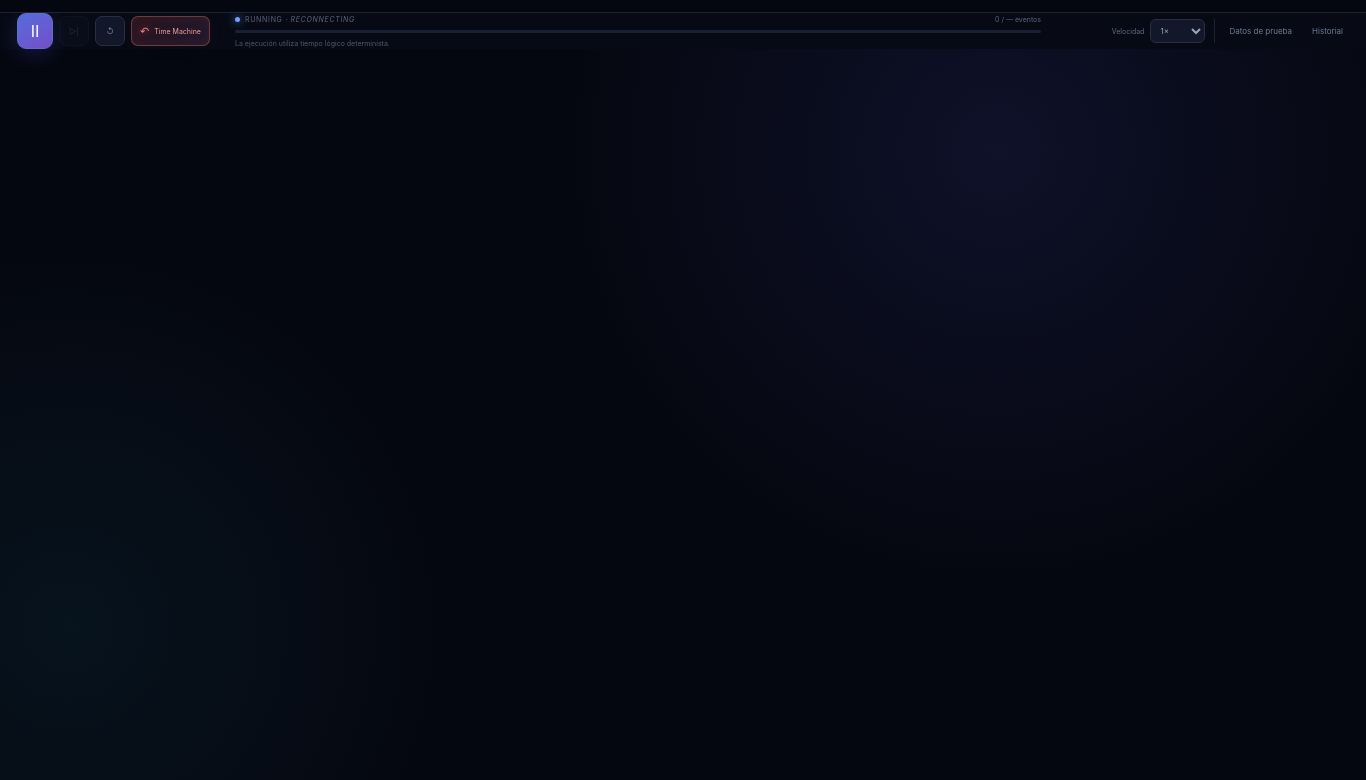
Test: RunControls › conserva el estado remoto y muestra el error si pausar falla
Click the button named "Pausar": (35, 31) [17,13,53,49]
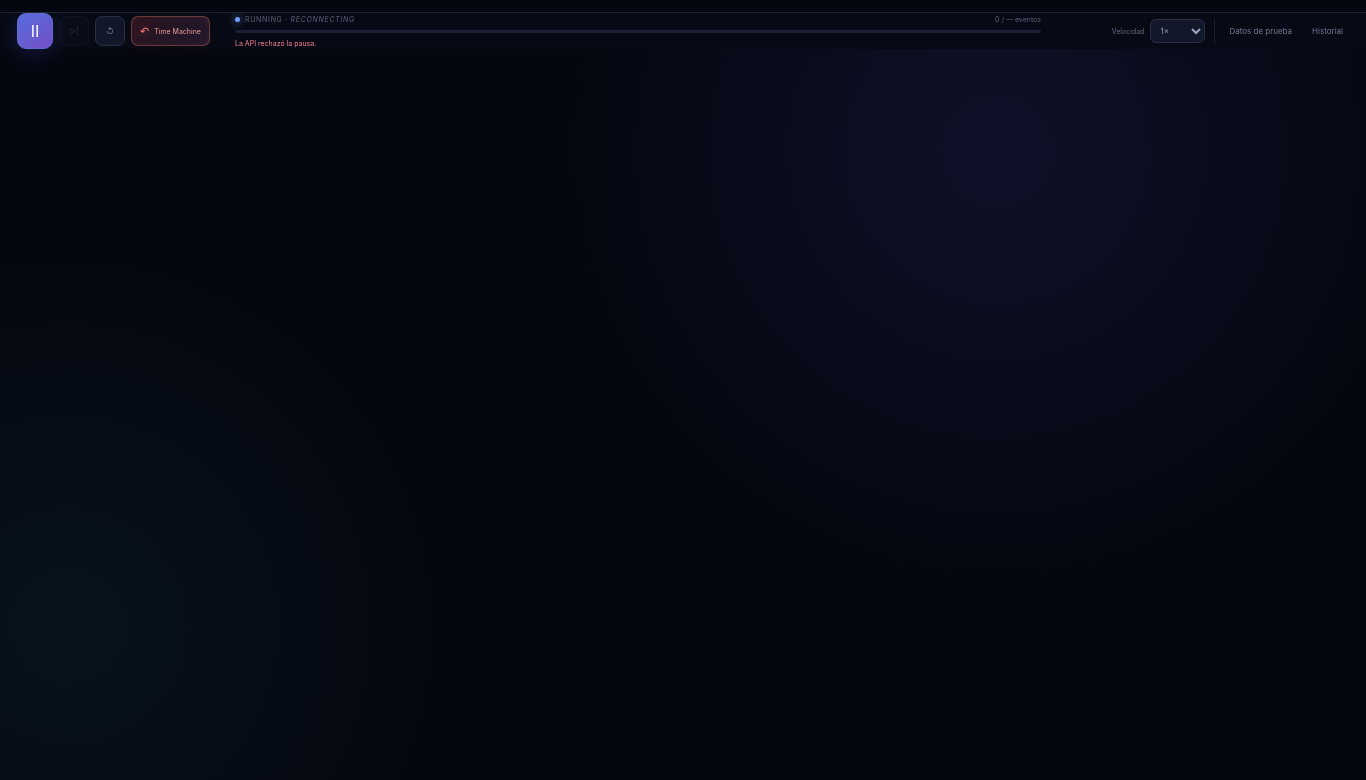
Now the message reads "La API rechazó la pausa.", box [235,38,316,48]
